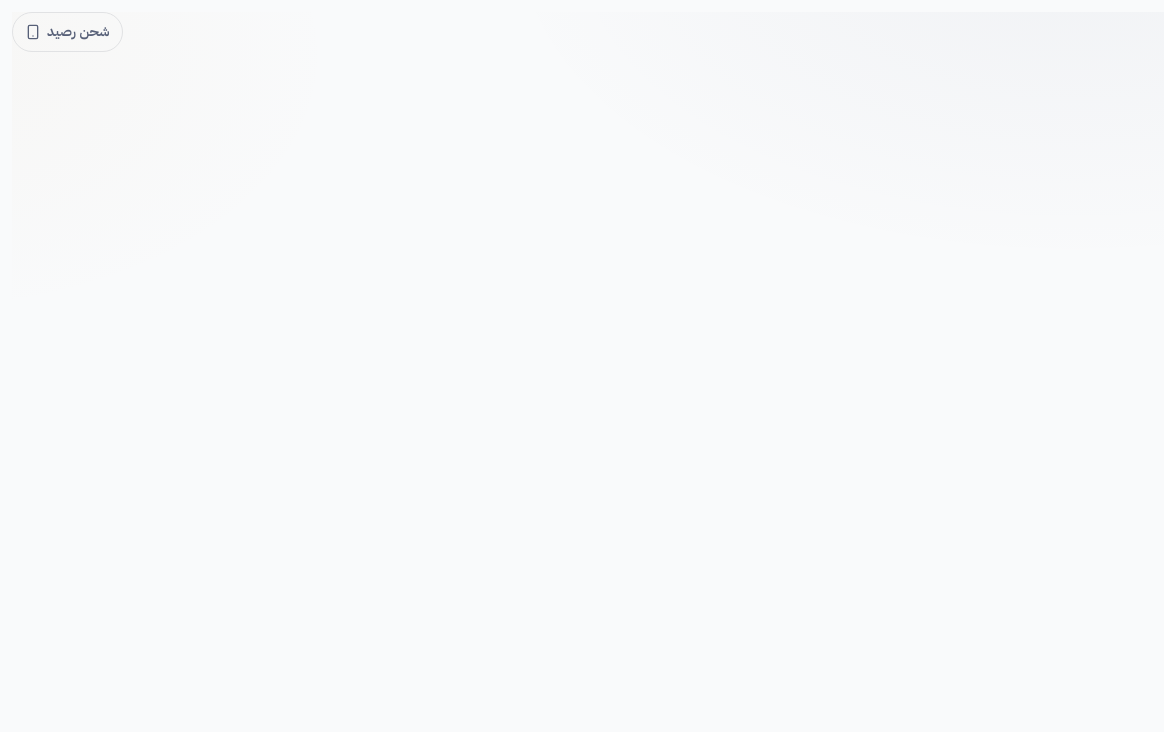
Test: top-up buttons › closes when the cashier taps somewhere else
Click the button "شحن رصيد". click: (67,32)
box: [12,12,122,52]
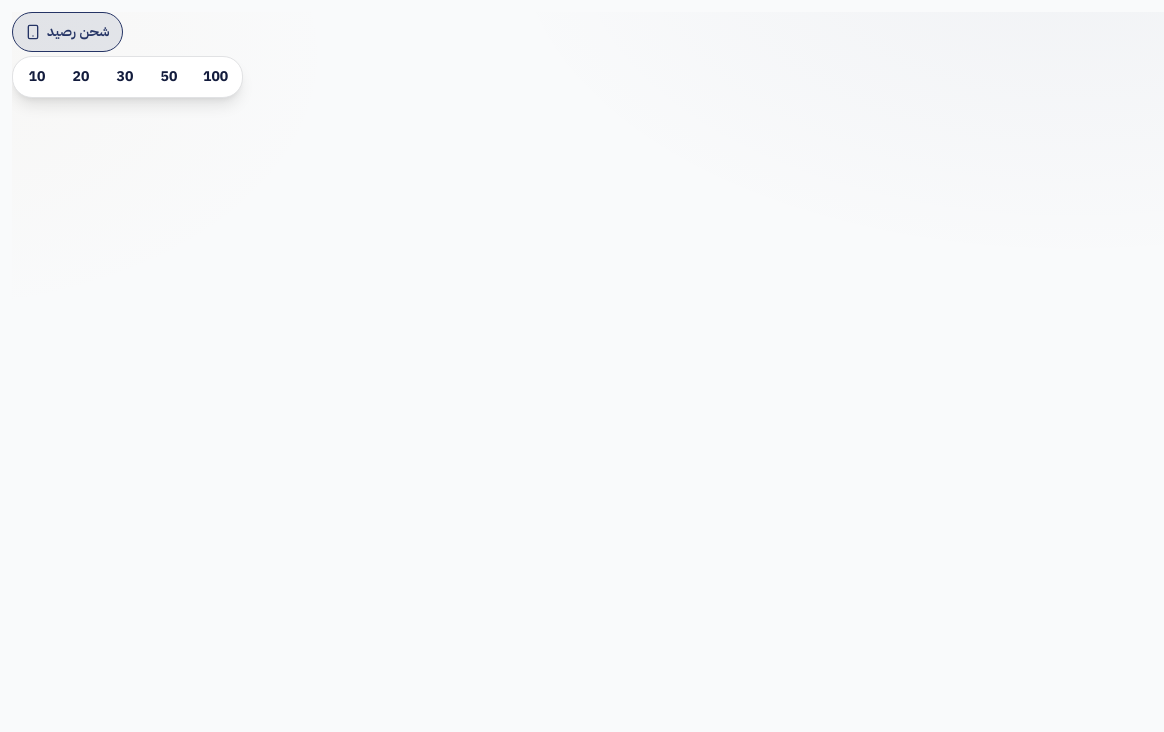
Now the menu item "50" is shown, box [149,61,189,93]
Press the mouse on the element showing "شحن رصيد 10 20 30 50 100" at (588,372), box [12,12,1163,731]
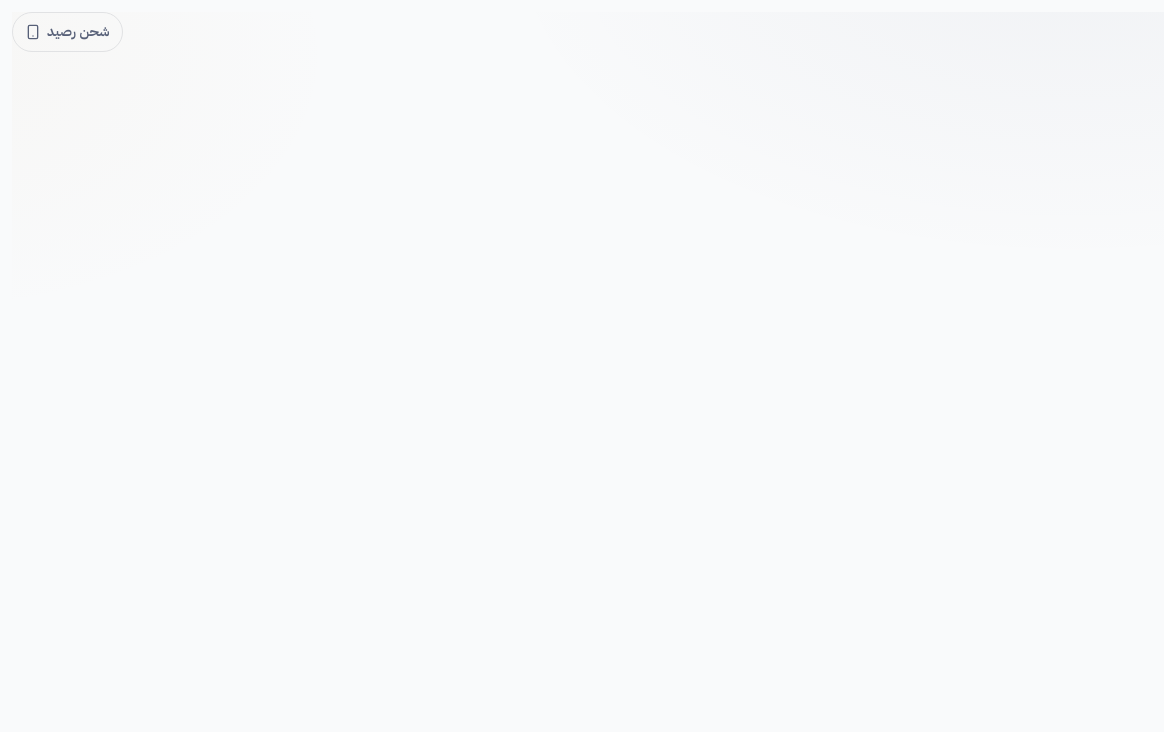
Now the menu item "50" is gone
